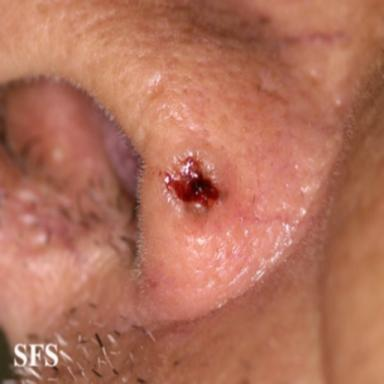basal-cell-carcinoma: (159, 146, 231, 217)
